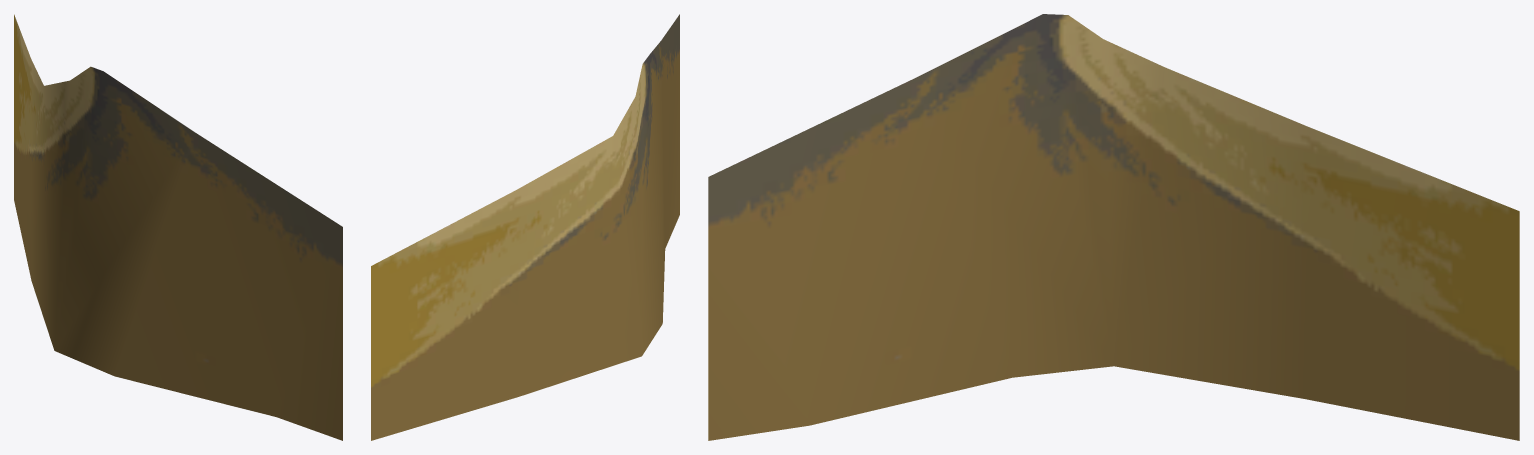
Rendered from BgMD_Mid_Desert_A_02.FBX.
3 views of the same model, side by side, from view 1: azimuth 30°, elevation 25°; view 2: azimuth 150°, elevation 25°; view 3: azimuth 270°, elevation 25° (orthographic). The views are drawn at different scales.
Parts seen in each view (by area): view 1: BgMD_Mid_Desert_A_02; view 2: BgMD_Mid_Desert_A_02; view 3: BgMD_Mid_Desert_A_02.
Boxes of the visible parts, bbox=[...] form: BgMD_Mid_Desert_A_02: bbox=[14, 14, 342, 440]; BgMD_Mid_Desert_A_02: bbox=[371, 14, 679, 440]; BgMD_Mid_Desert_A_02: bbox=[708, 14, 1519, 440].
Size of the model in its own units: 348 by 794 by 1600.
